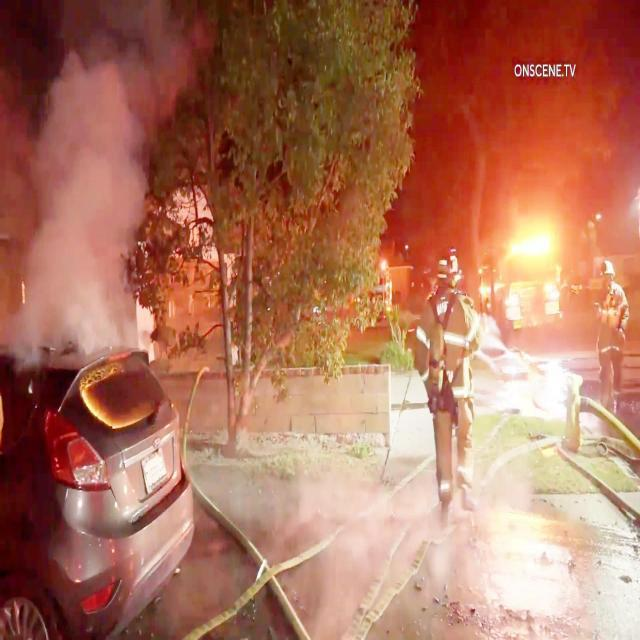Smoke: (12, 15, 132, 342)
